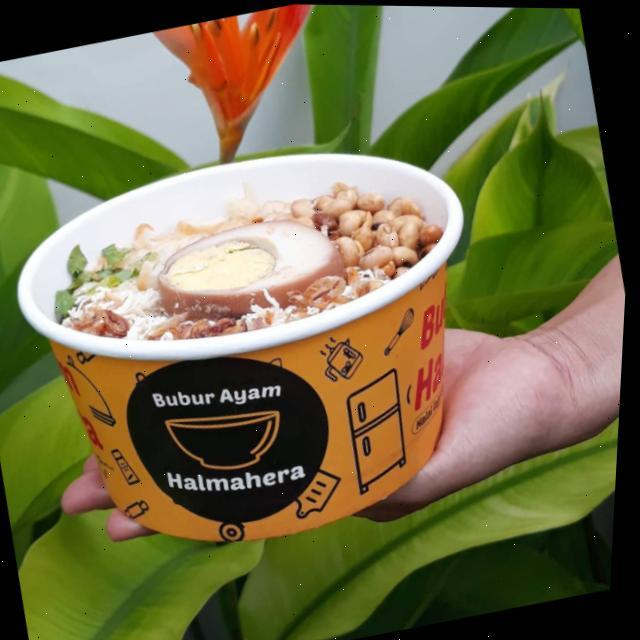bubur ayam: (42, 155, 450, 371)
telur rebus: (148, 204, 350, 324)
